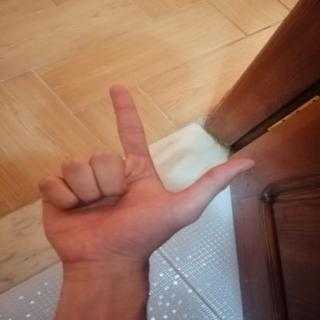LAAM: (25, 76, 268, 276)
